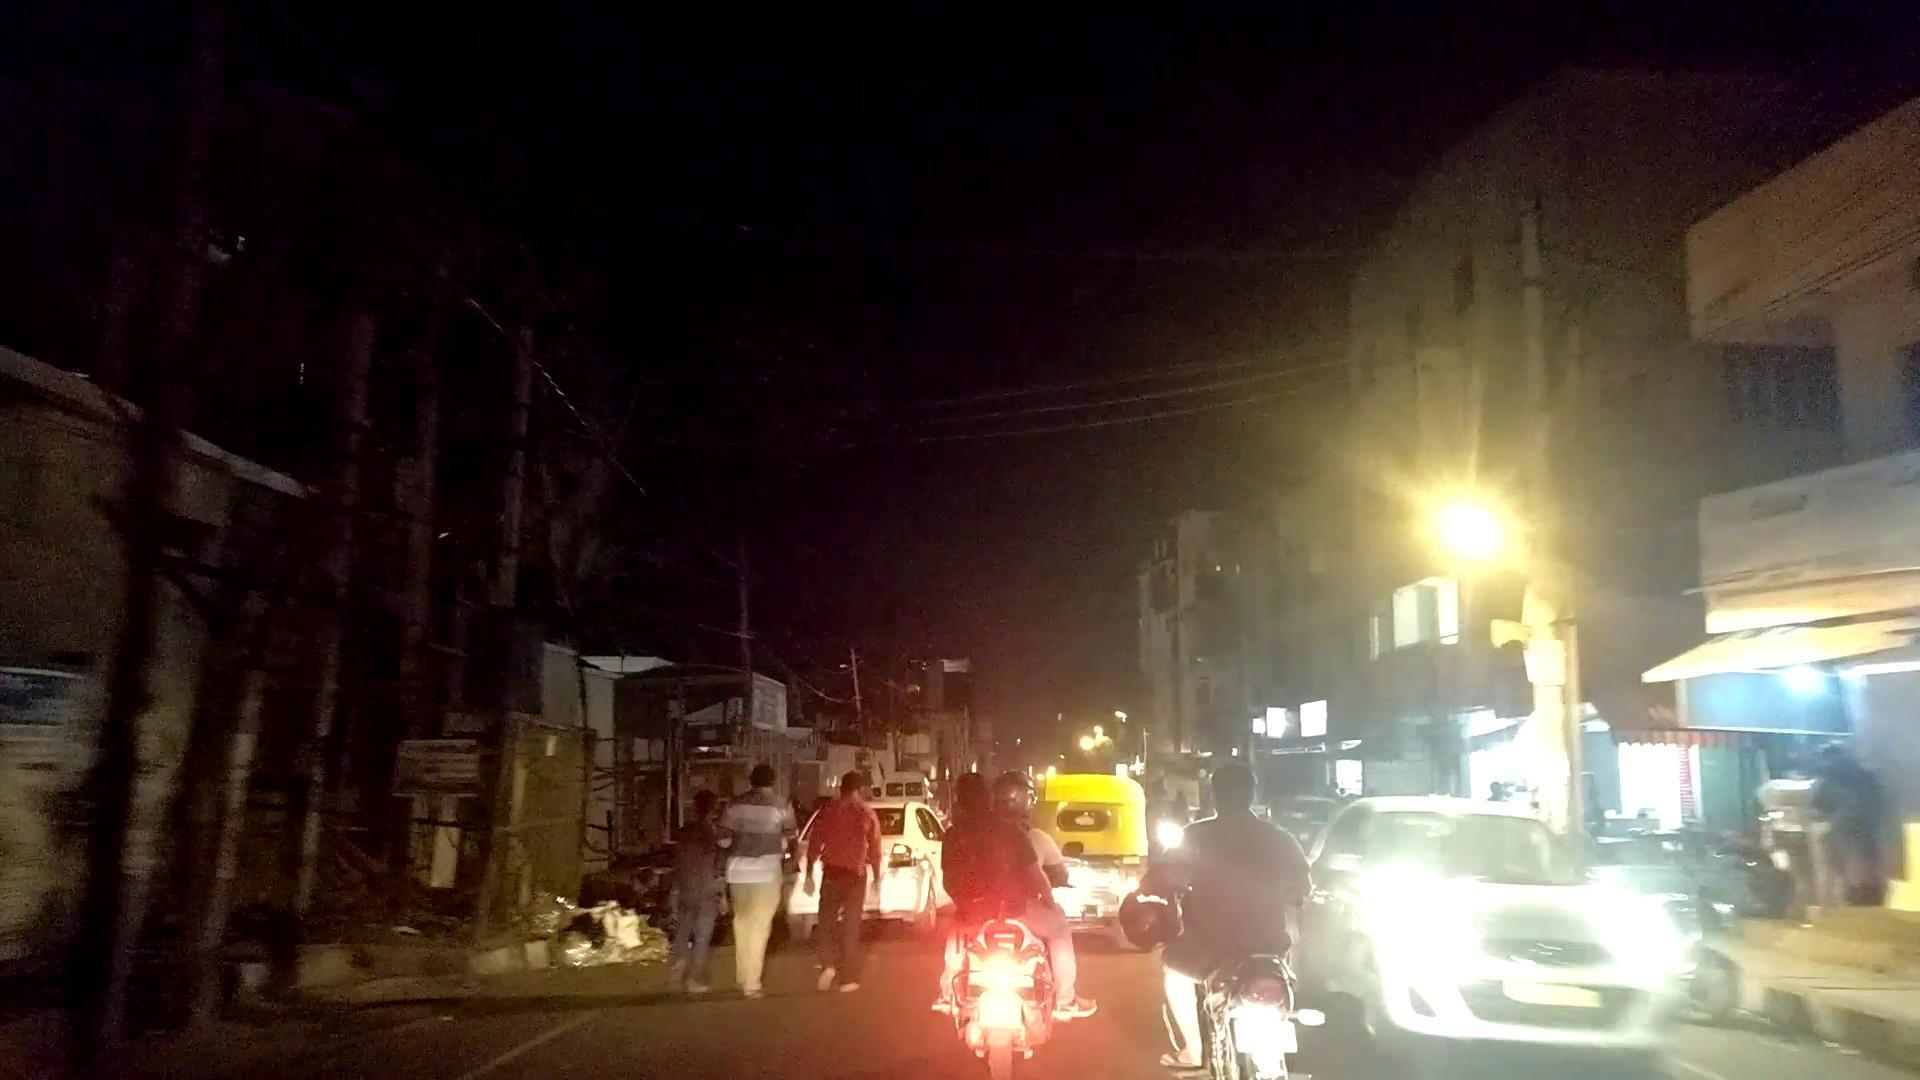on: (1400, 433, 1606, 626)
